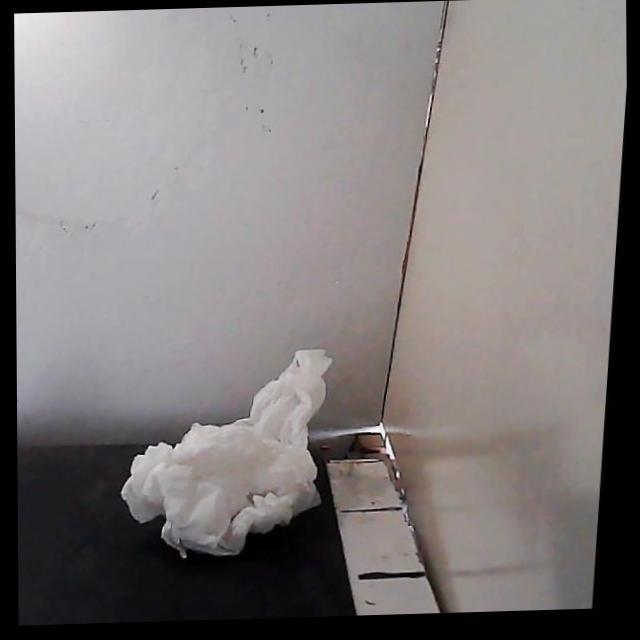papel: (121, 349, 331, 558)
